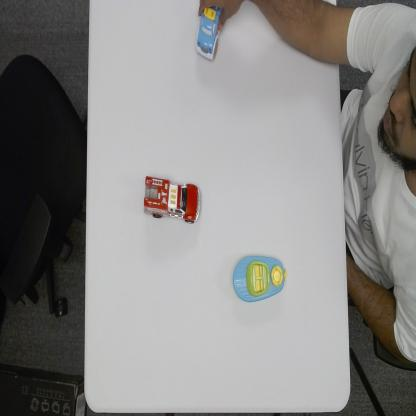Arm: (246, 0, 337, 66)
Boat: (232, 252, 288, 304)
Car: (195, 6, 222, 63)
Firetruck: (143, 174, 202, 226)
Hand: (196, 0, 244, 31)
